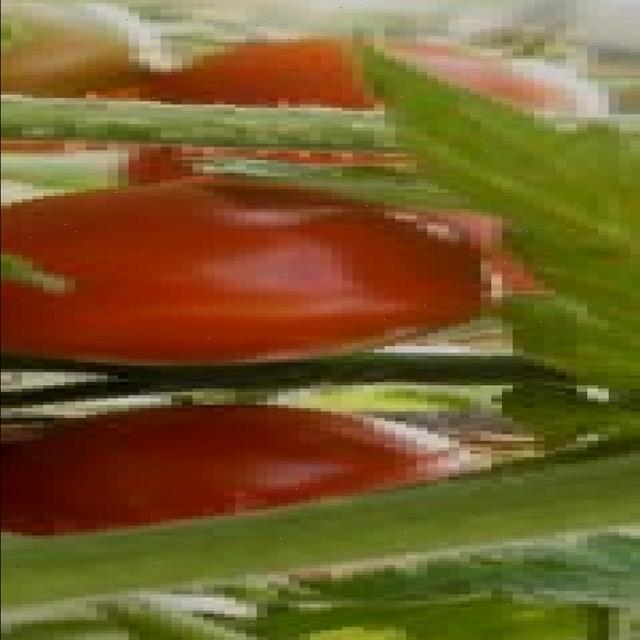Healthy Fruit: (161, 69, 327, 310)
